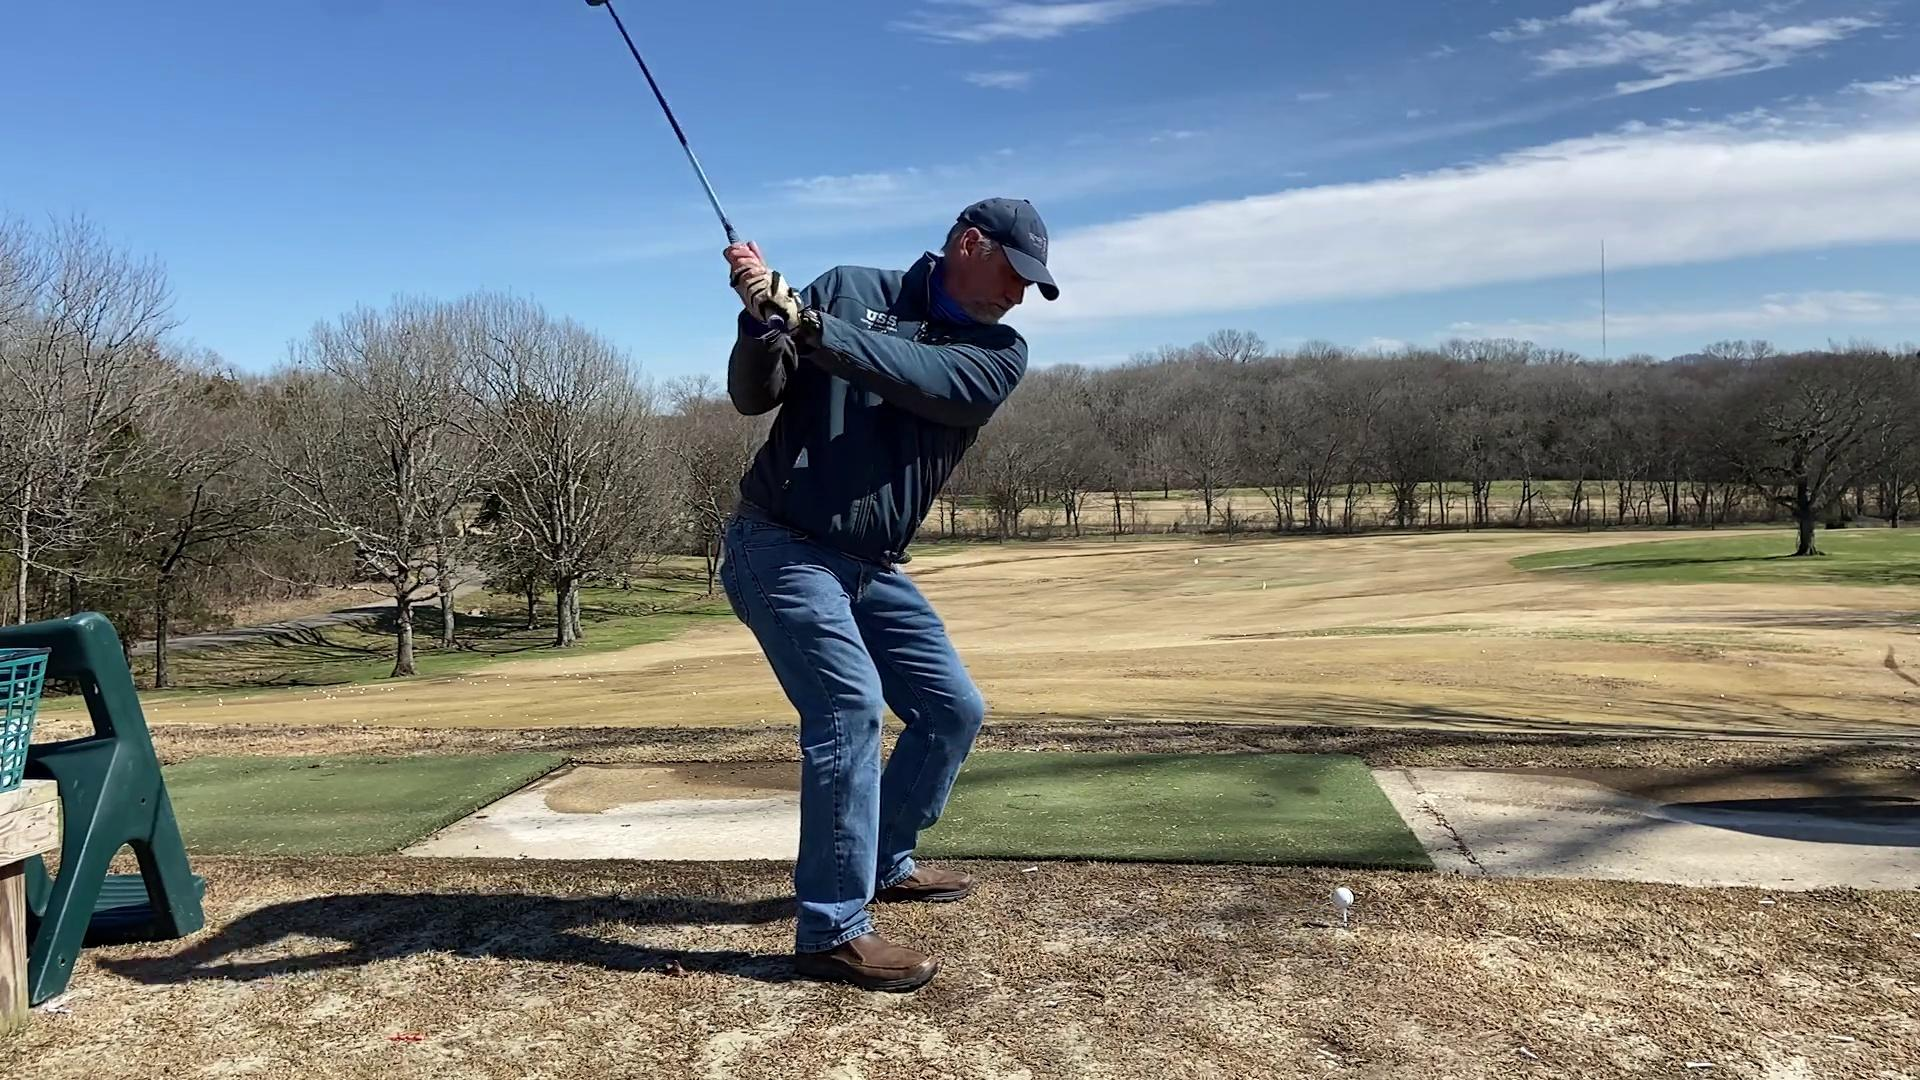GolfBall: (1331, 886, 1358, 913)
